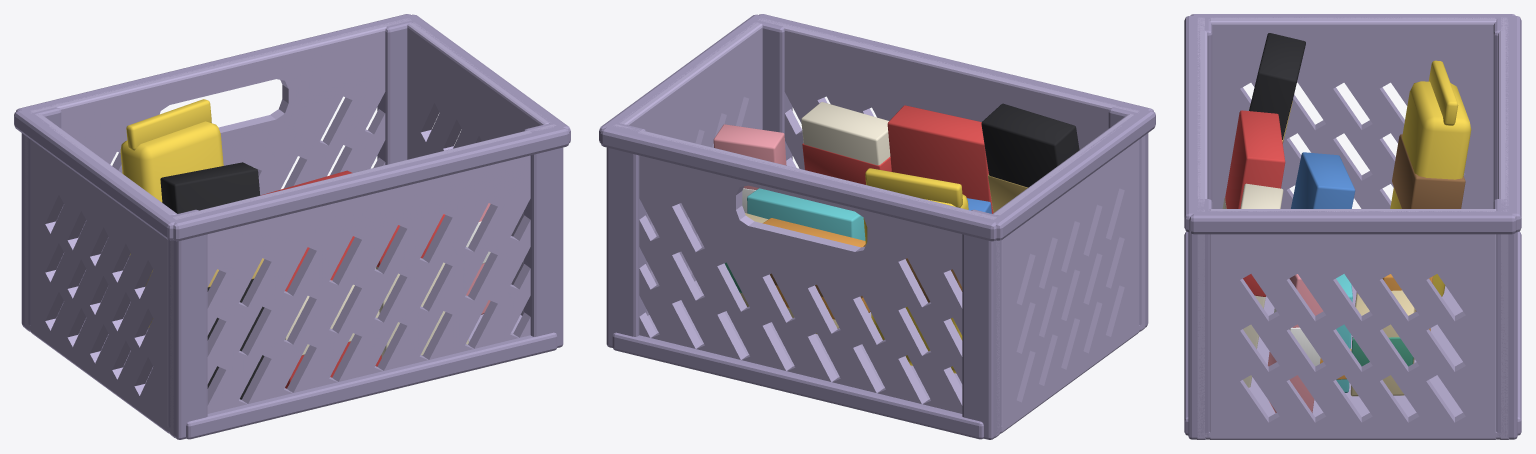
Rendered from kiste.glb.
3 renders of one model, left to right at view 1: azimuth 30°, elevation 25°; view 2: azimuth 150°, elevation 25°; view 3: azimuth 270°, elevation 25°, orthographic. The views are drawn at different scales.
Parts seen in each view (by area): view 1: KisteMesh, Proviant; view 2: KisteMesh, Proviant; view 3: KisteMesh, Proviant.
Boxes of the visible parts, box(x1,y1,x2,y2) form: KisteMesh: box(14, 14, 570, 439); Proviant: box(120, 99, 490, 399); KisteMesh: box(599, 14, 1155, 439); Proviant: box(713, 102, 1079, 373); KisteMesh: box(1184, 14, 1521, 439); Proviant: box(1222, 33, 1471, 412).
Size of the model in its own units: 0.522 by 0.2727 by 0.362.
